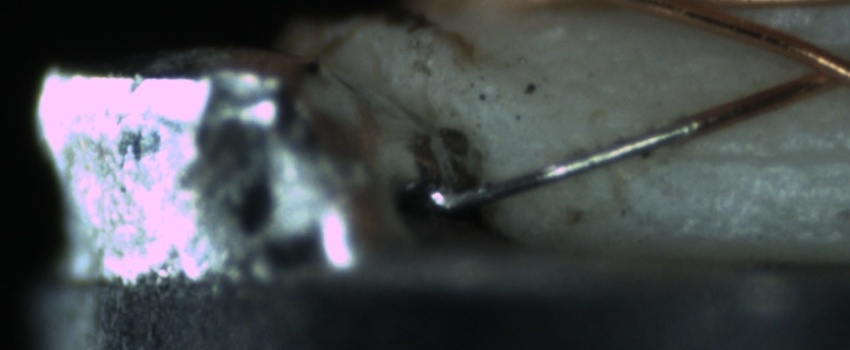CL: (775, 40, 849, 100)
DL: (641, 124, 850, 188)
TS: (437, 117, 699, 211)
